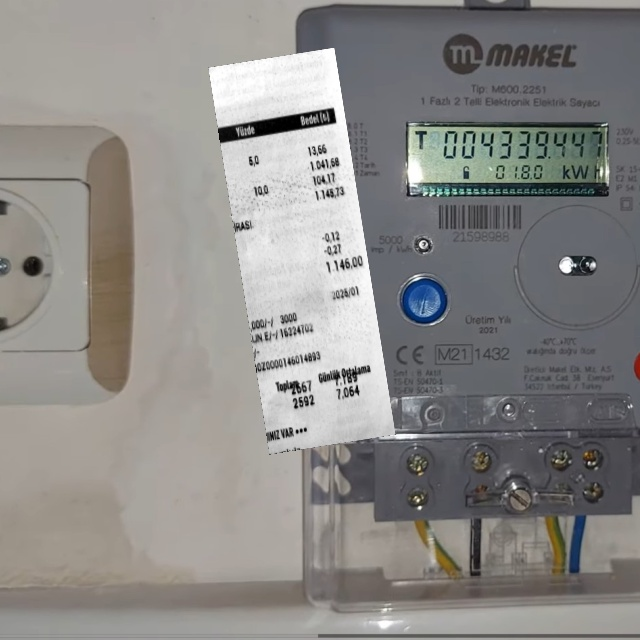electricity-bill: (208, 48, 396, 455)
